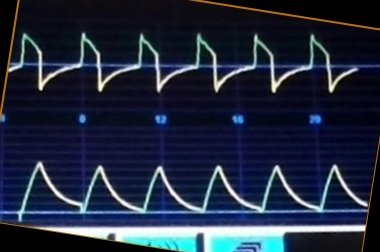Normal Flow: (14, 29, 360, 100)
Normal Volume: (13, 145, 366, 219)
